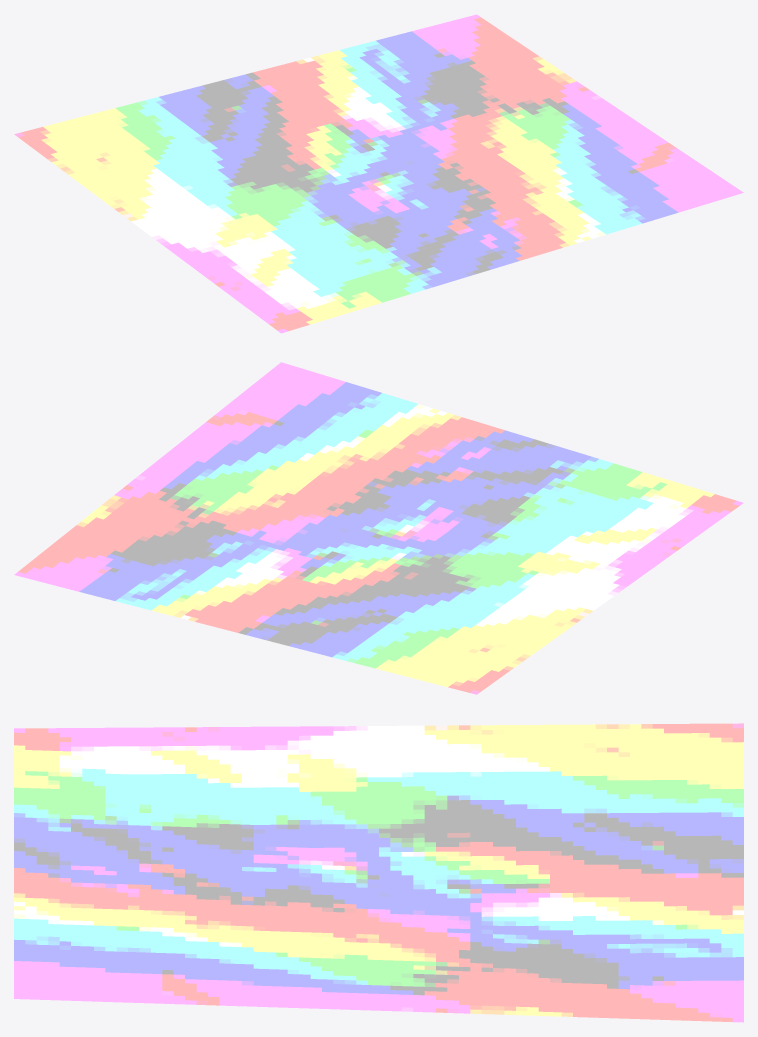
Rendered from Lieu, Eva - Ocean Test 2.glb.
The picture shows the model from 3 angles, top to bottom: view 1: azimuth 30°, elevation 25°; view 2: azimuth 150°, elevation 25°; view 3: azimuth 270°, elevation 25°; orthographic projection. The views are drawn at different scales.
Parts seen in each view (by area): view 1: Plane; view 2: Plane; view 3: Plane.
Part boxes in pixels (x1=…): Plane: x1=14, y1=14, x2=743, y2=333; Plane: x1=14, y1=362, x2=743, y2=694; Plane: x1=14, y1=723, x2=743, y2=1022.
Bounding box in the file's own units: 22.05 × 1.27 × 22.05.
Materials: 1 (1 with a texture image).
